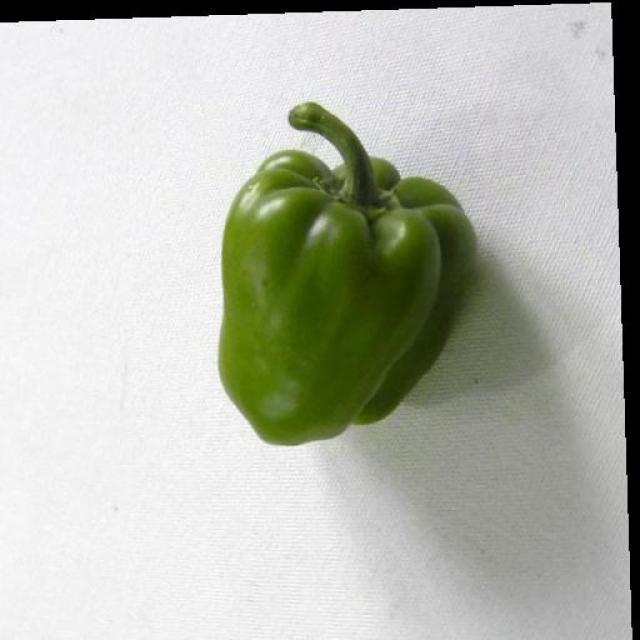Fresh_Capsicum: (202, 90, 476, 458)
